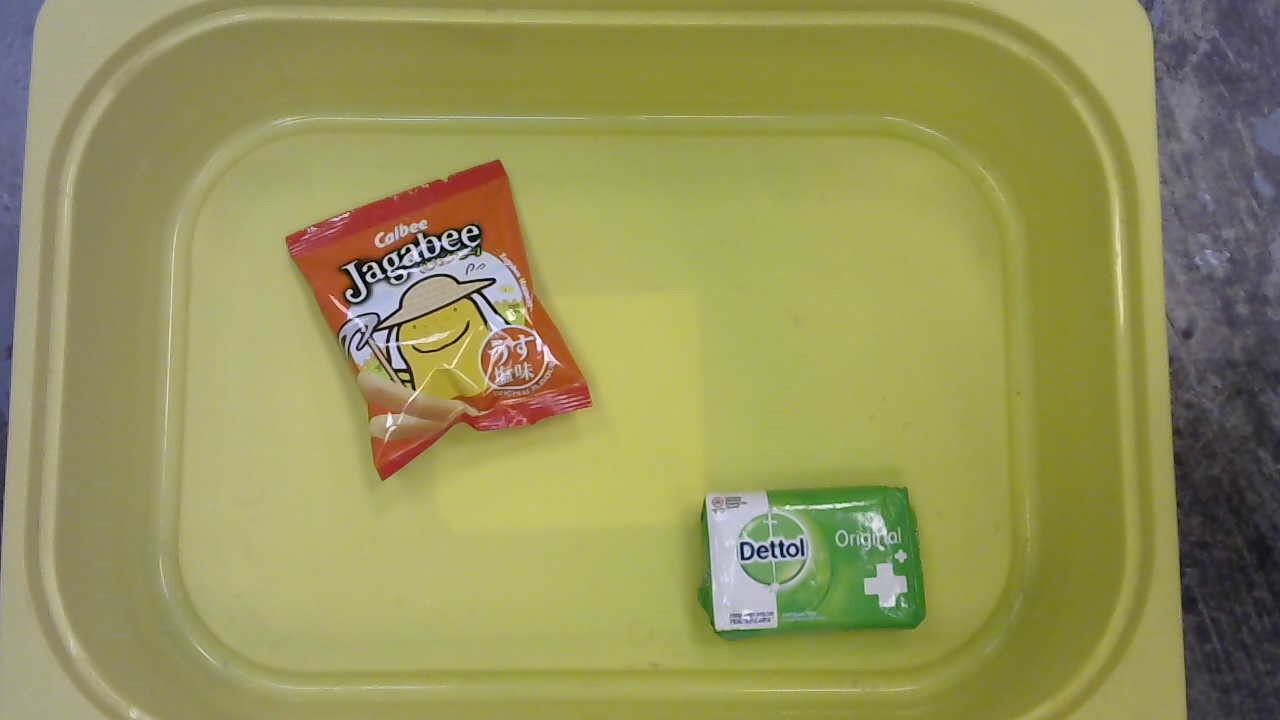Dettol: (698, 483, 932, 639)
JagabeeFarmer: (278, 156, 604, 485)
